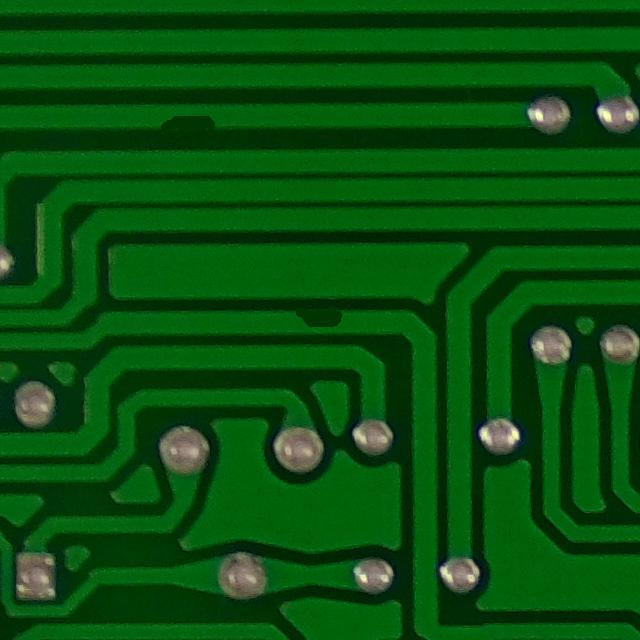mouse_bite: (282, 298, 358, 343)
